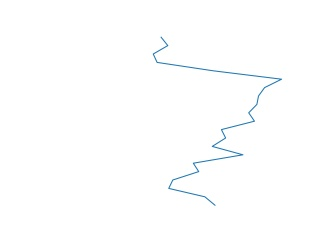floodPlain: (152, 36, 284, 209)
